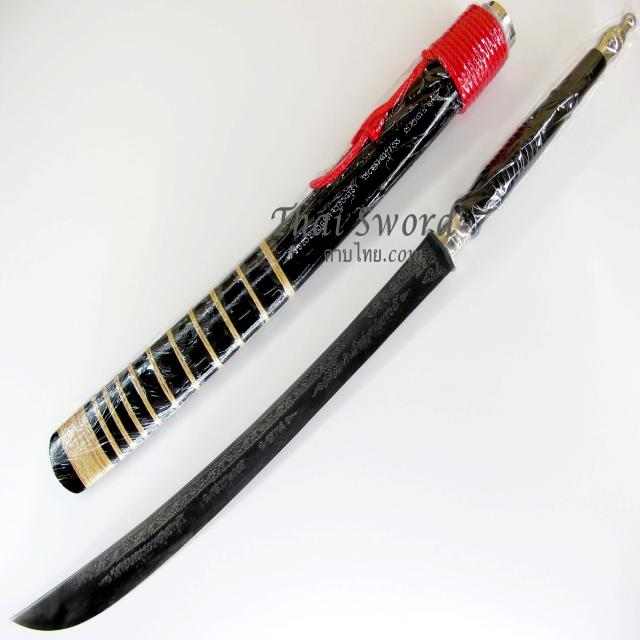long sword: (3, 9, 629, 630)
